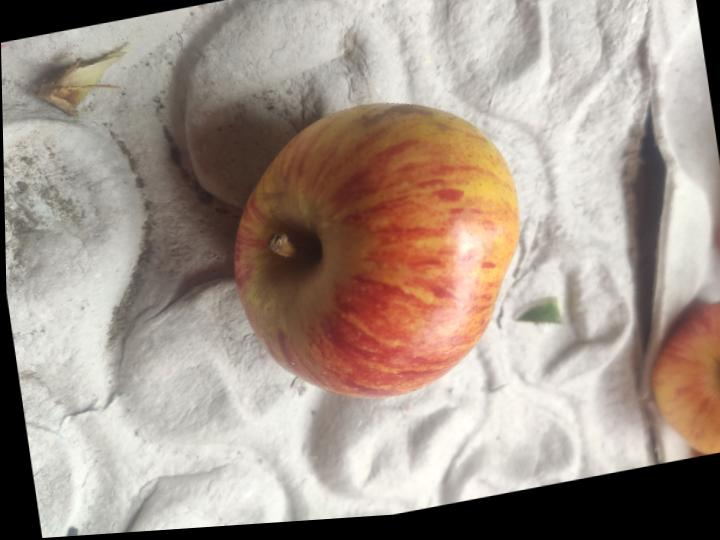apple: (235, 103, 519, 397)
bruise_discoloration: (250, 219, 362, 348)
